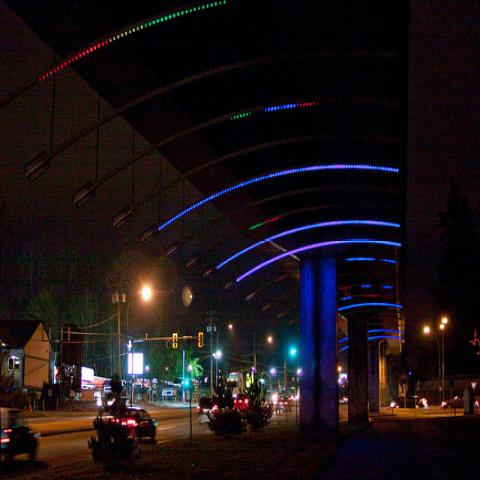car: (111, 406, 158, 440), (0, 425, 42, 461), (196, 398, 219, 426), (441, 396, 479, 408), (233, 392, 249, 410), (275, 396, 291, 412)
